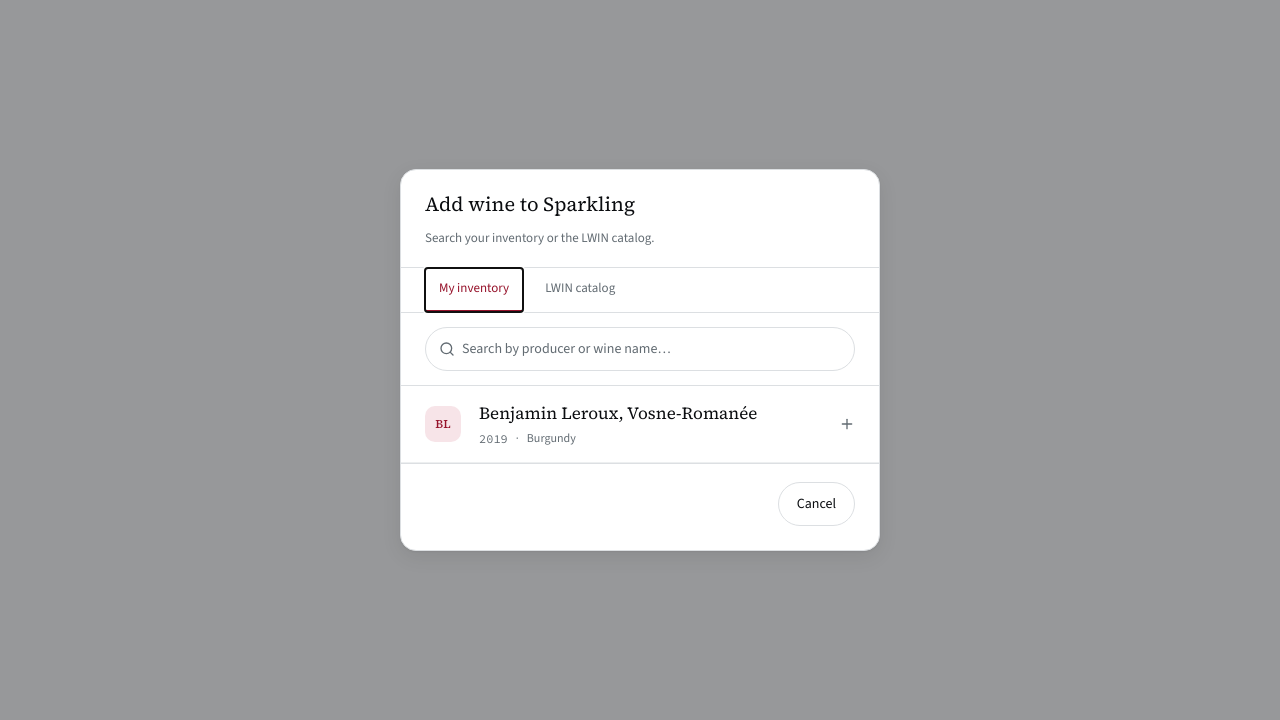
Test: AddWineModal pricing and destination › names both sections when the user picks a second one
Click the button "BL Benjamin Leroux, Vosne-Romanée 2019 · Burgundy" at [640, 424], box [401,386,879,463]
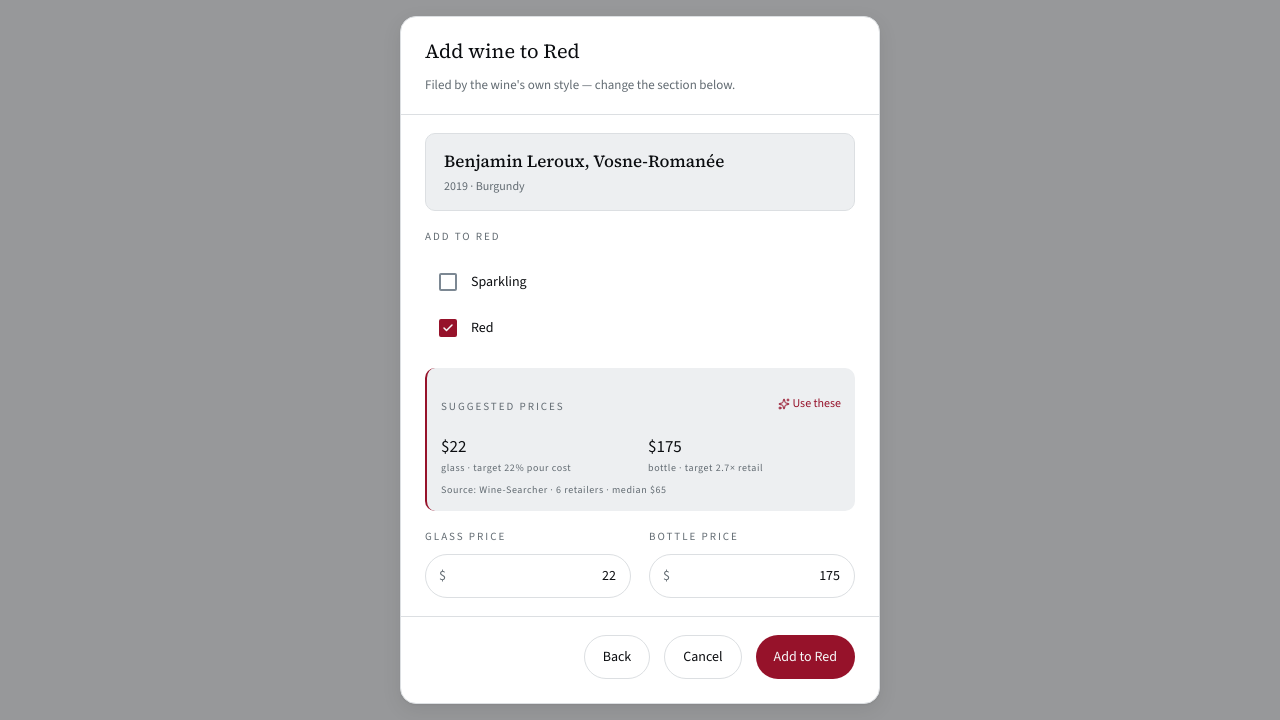
Click the checkbox named "Add to Sparkling" at [483, 281], box [439,272,527,291]
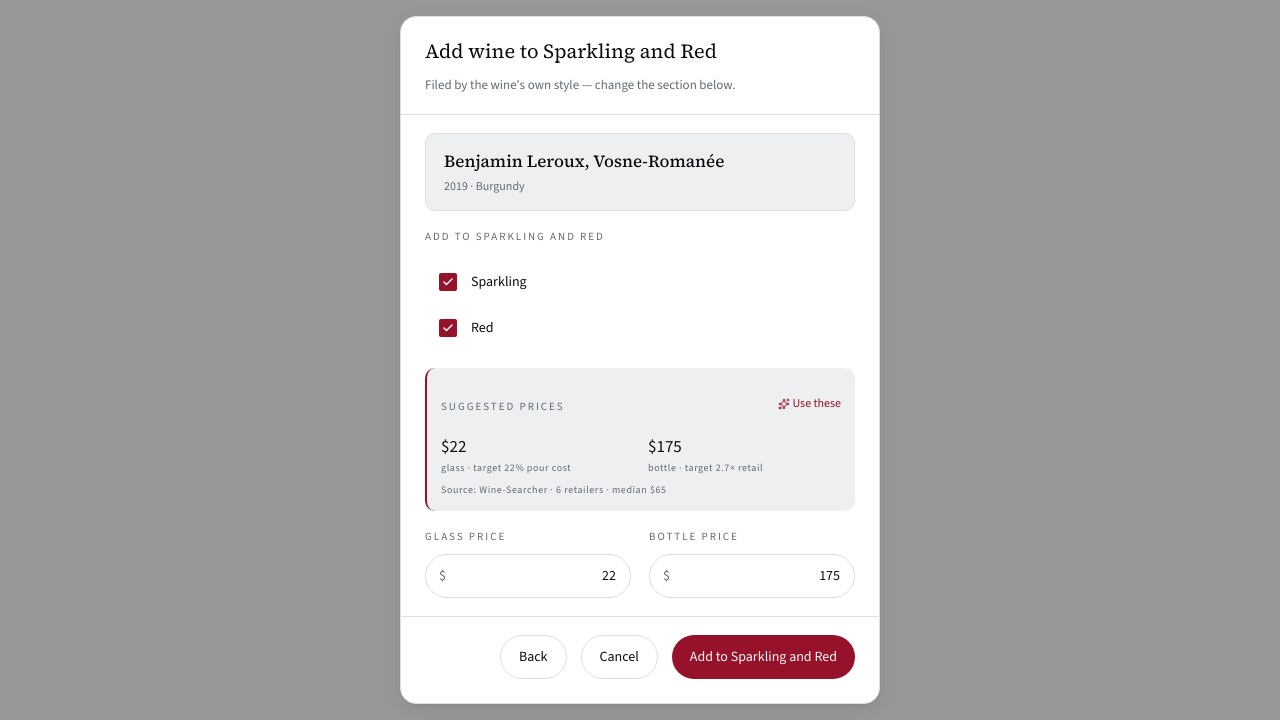
Now the heading with id "add-wine-title" reads "Add wine to Sparkling and Red", box [425,37,717,65]
